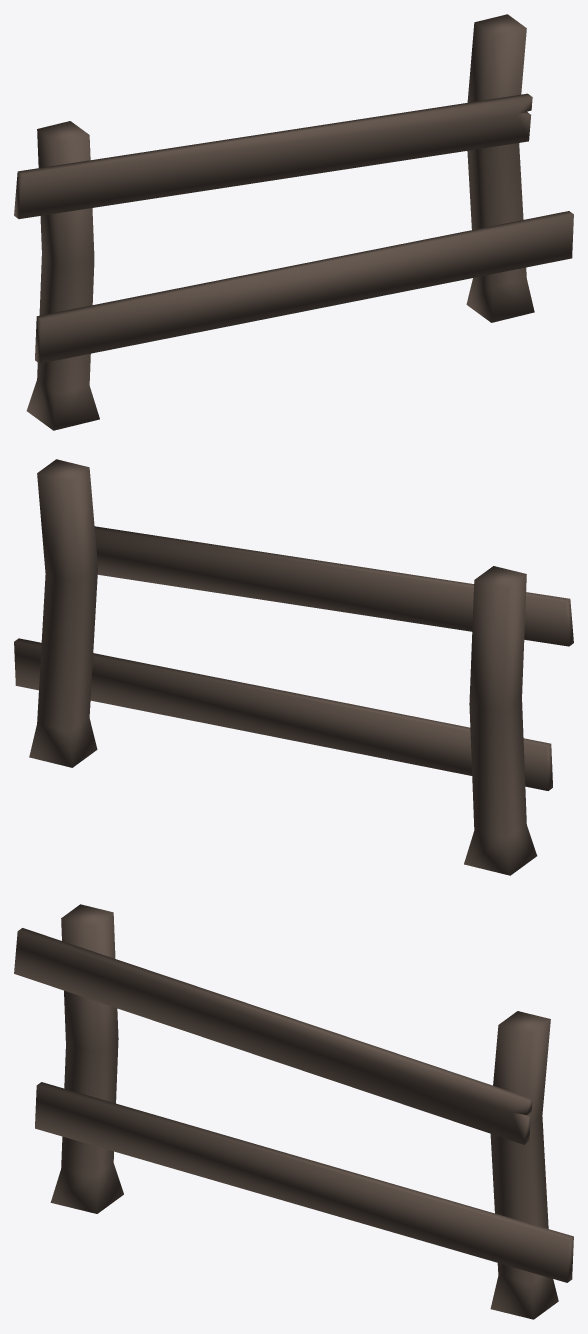
File: fence_01.gltf
The picture shows the model from 3 angles, top to bottom: view 1: azimuth 30°, elevation 25°; view 2: azimuth 150°, elevation 25°; view 3: azimuth 330°, elevation 25°; orthographic projection.
Parts seen in each view (by area): view 1: fence_01; view 2: fence_01; view 3: fence_01.
Part boxes in pixels (x1,y1,x2,y2): fence_01: (14,14,573,430); fence_01: (14,459,573,875); fence_01: (14,904,573,1319).
Bounding box in the file's own units: 2.27 × 1.11 × 0.1972.
